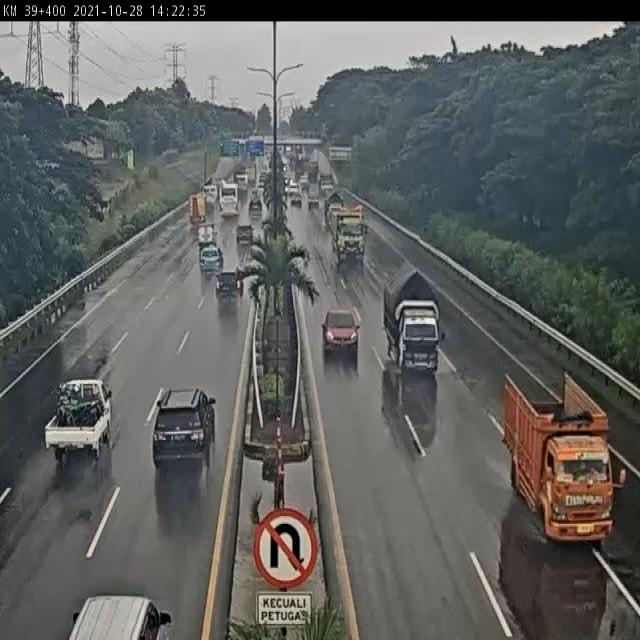Car: (142, 387, 224, 470), (62, 587, 175, 640), (321, 308, 361, 366), (213, 268, 243, 308), (198, 240, 223, 278), (220, 182, 240, 218), (236, 224, 253, 246), (248, 194, 262, 220)
Truck: (494, 374, 626, 534), (38, 368, 124, 472), (384, 262, 442, 374), (331, 206, 366, 268), (189, 192, 207, 226)
